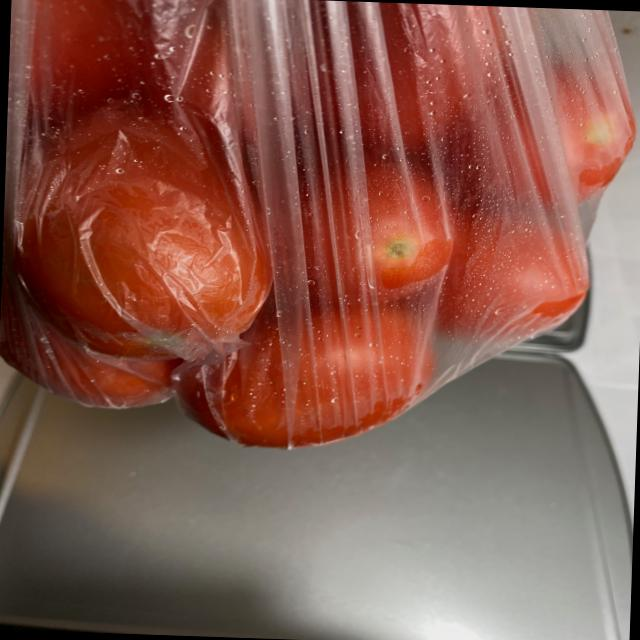tomato: (0, 1, 632, 465)
